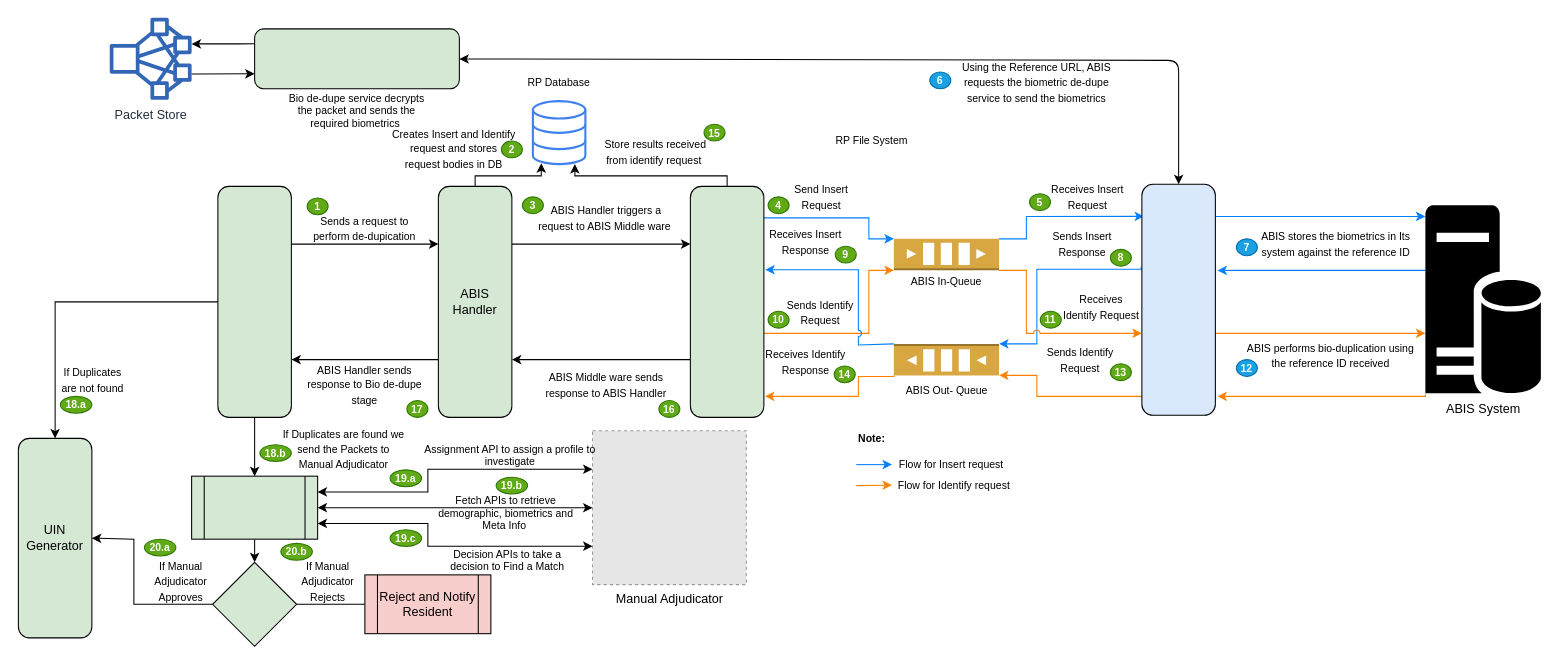
Image size: 1559x665. Some labels were removed from this diagram. Grey dashed boxes stand in for pictures. The shapes that lost their labels are listed below. From the top down, each one's centre as x and y in pixels, then its label:
At [356,58]: "Bio De-dupe Service".
At [254,301]: "Bio De-dupe Stage".
At [726,301]: "ABIS Middle Ware".
At [1178,299]: "ABIS Solution".
At [254,507]: "Manual Adjudication".
At [254,603]: "Decision".
